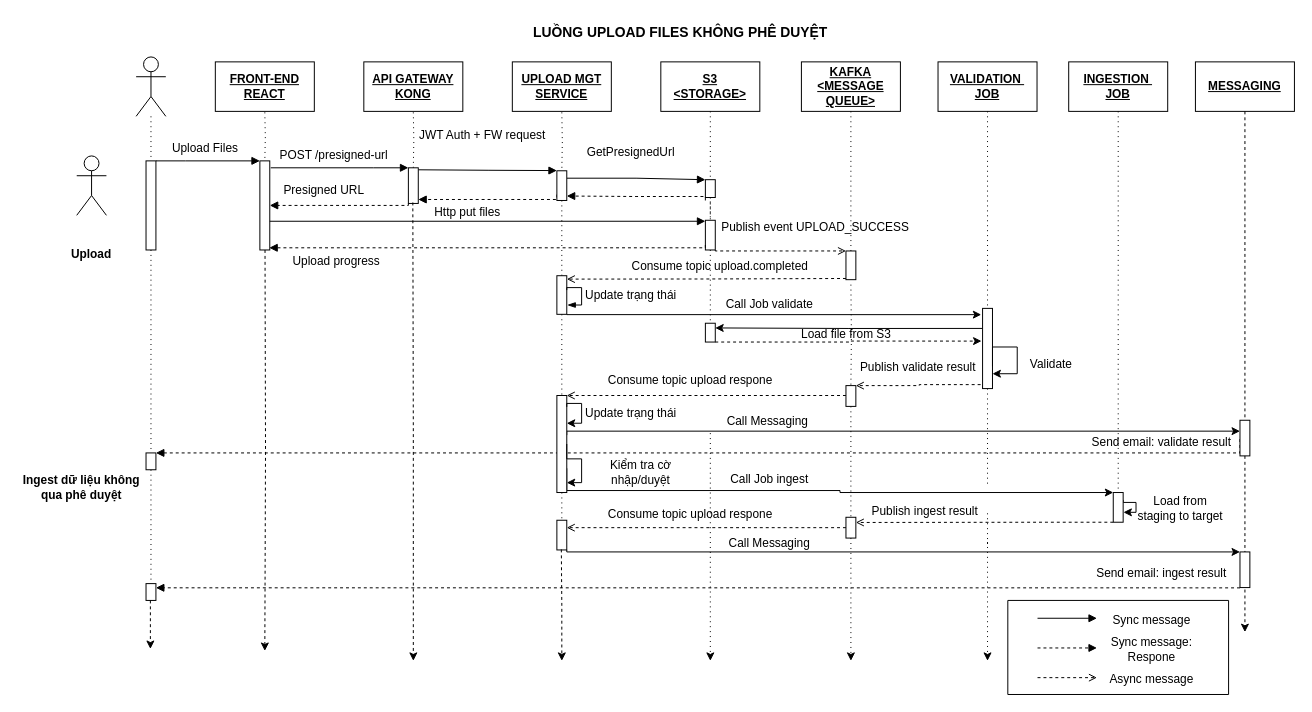
Some shapes in this 1312 by 712 pixel diagram are drawn without their labels. Here are the shapes that lost their labels. From the top down, the centre of each, then its label:
(x=150, y=86): Actor
(x=91, y=185): Maker
